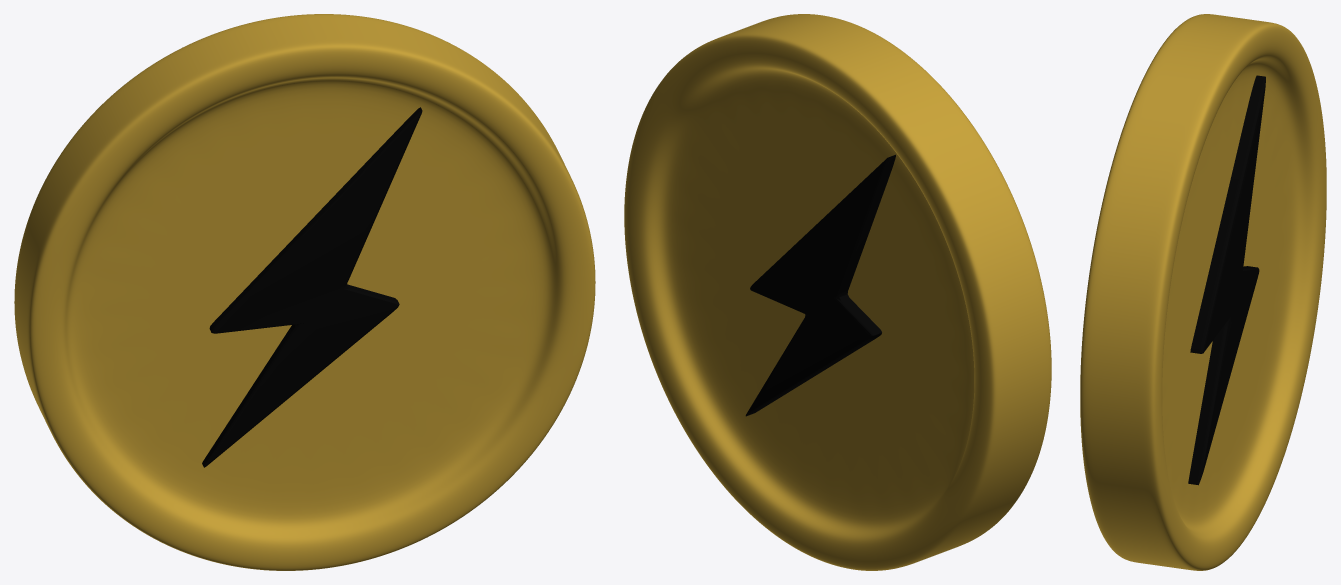
The model's file is Coin.fbx.
3 views of the same model, side by side, from view 1: azimuth 30°, elevation 25°; view 2: azimuth 150°, elevation 25°; view 3: azimuth 270°, elevation 25° (orthographic). The views are drawn at different scales.
Parts seen in each view (by area): view 1: Cylinder, Cube.001; view 2: Cylinder, Cube; view 3: Cylinder, Cube.
Part boxes in pixels (x1=…): Cylinder: x1=14, y1=14, x2=595, y2=570; Cube.001: x1=202, y1=107, x2=422, y2=467; Cylinder: x1=624, y1=14, x2=1051, y2=570; Cube: x1=745, y1=154, x2=895, y2=416; Cylinder: x1=1080, y1=14, x2=1326, y2=570; Cube: x1=1188, y1=75, x2=1265, y2=485.
Bounding box in the file's own units: 196 × 199 × 88.55.
